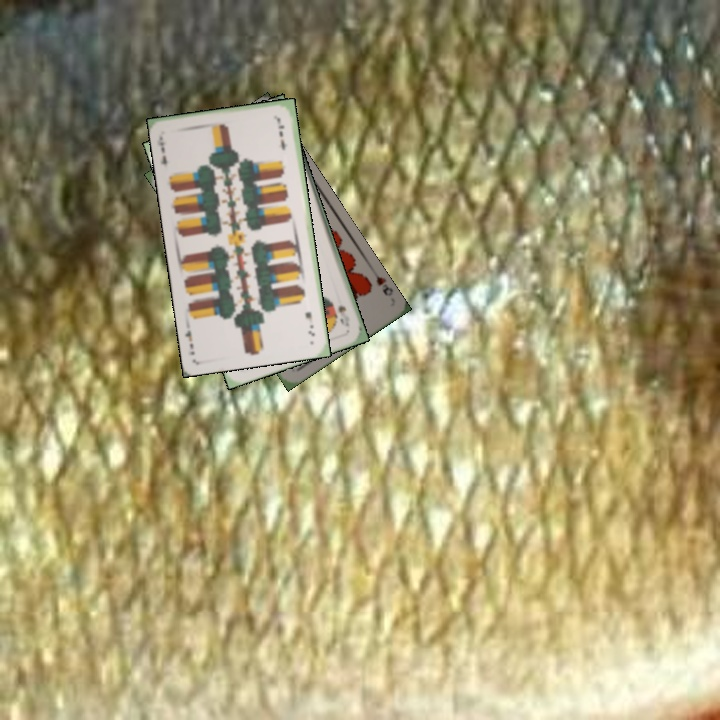E7: (153, 132, 170, 167), (301, 308, 317, 339)
H9: (368, 267, 394, 298)
SO: (334, 301, 352, 329)
